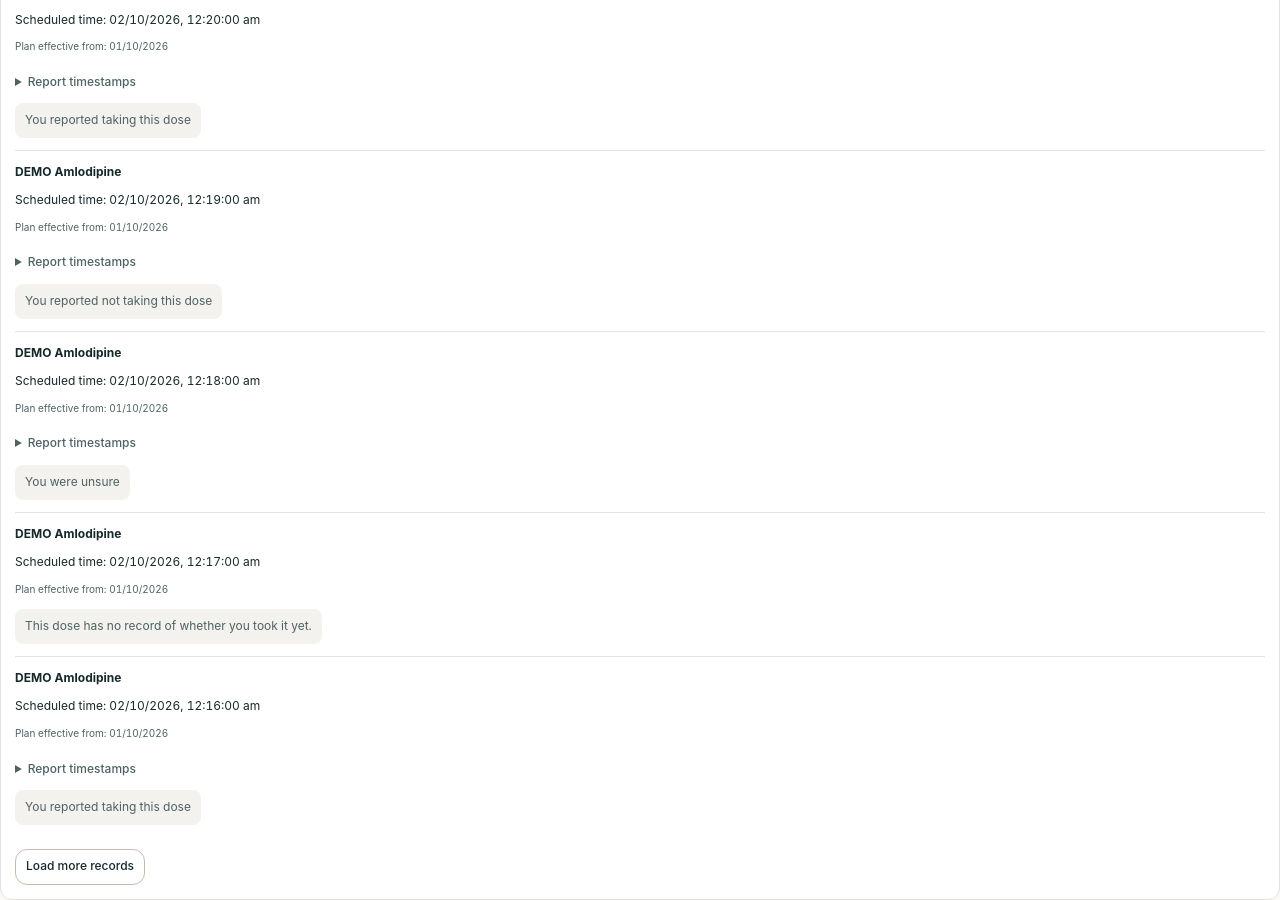
Scenario: shows 20 real-shaped page records in server order without hiding additional records
This screenshot has width=1280, height=900.
(page scrolled)
Click the button "Load more records". click: click(80, 867)
box: [15, 849, 145, 885]
(page scrolled)
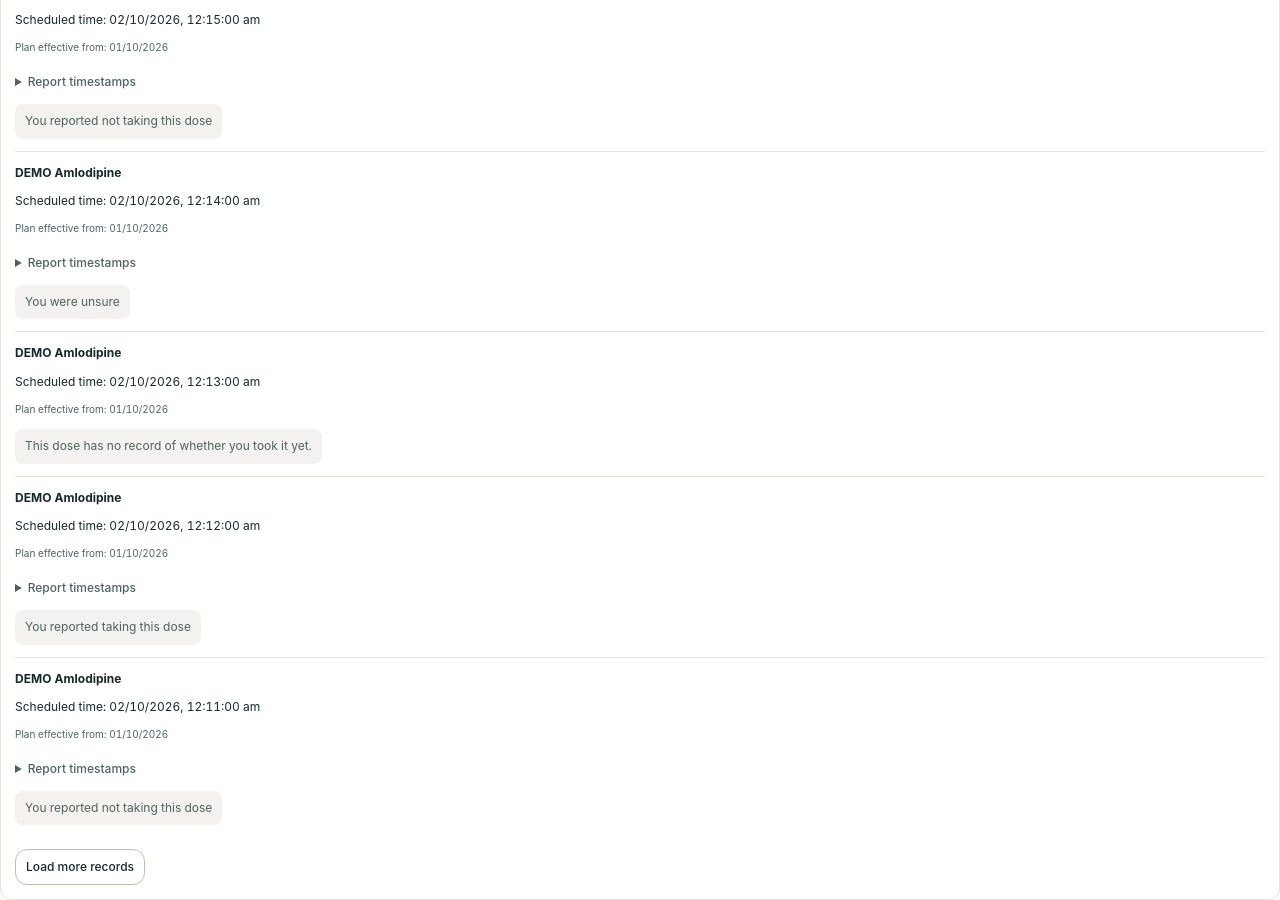
Check: the number of list items is 10
Click the button "Load more records". click: click(80, 868)
box: [15, 850, 145, 886]
(page scrolled)
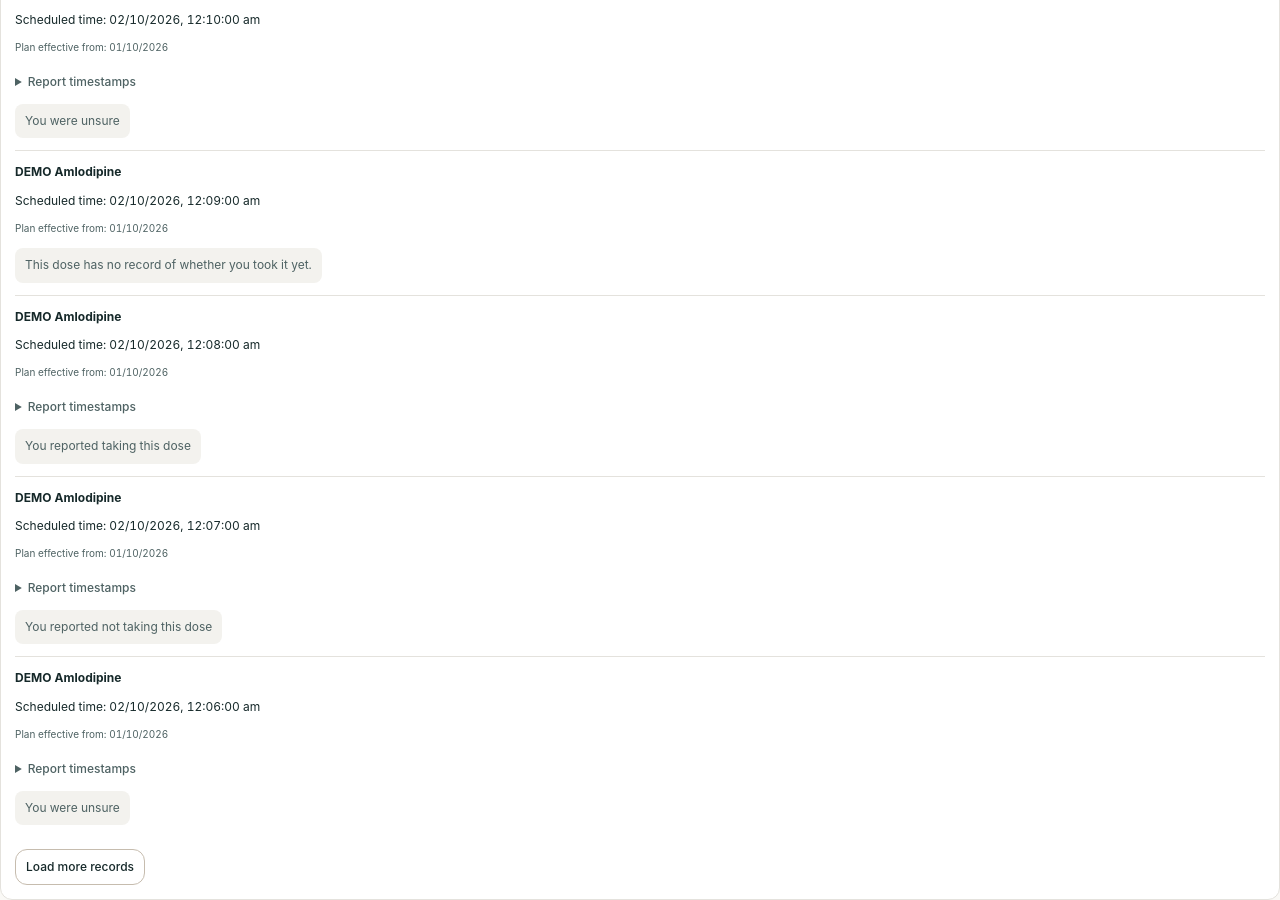
Click the button "Load more records". click: click(80, 867)
box: [15, 849, 145, 885]
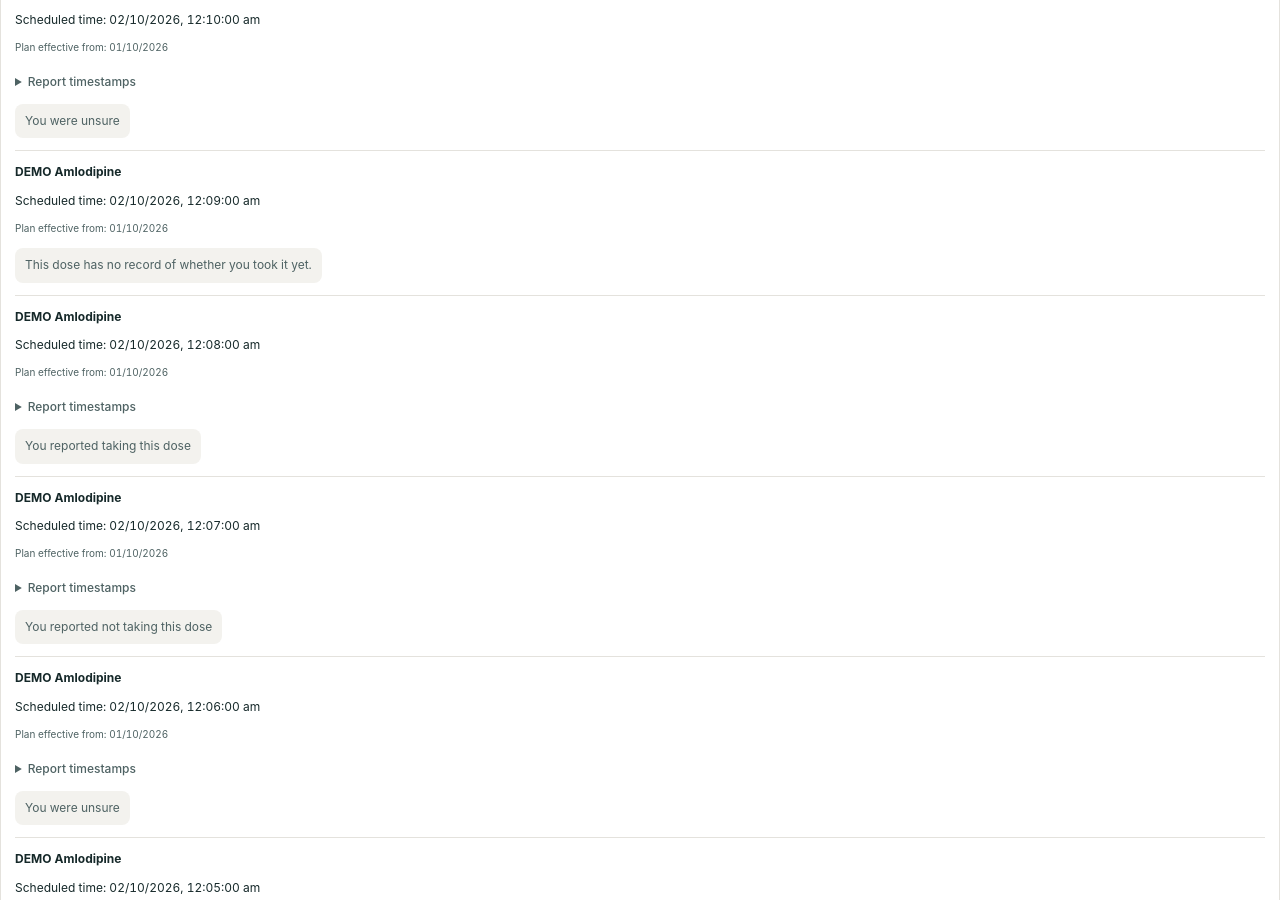
Check: the button "Load more records" is gone
